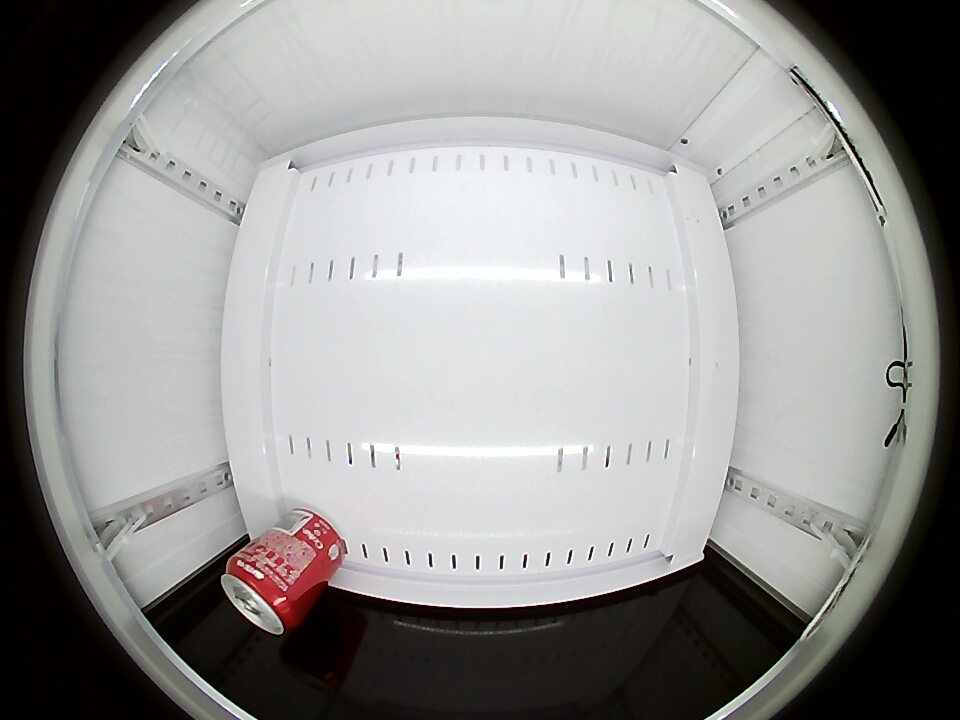kele: (221, 555, 301, 635)
